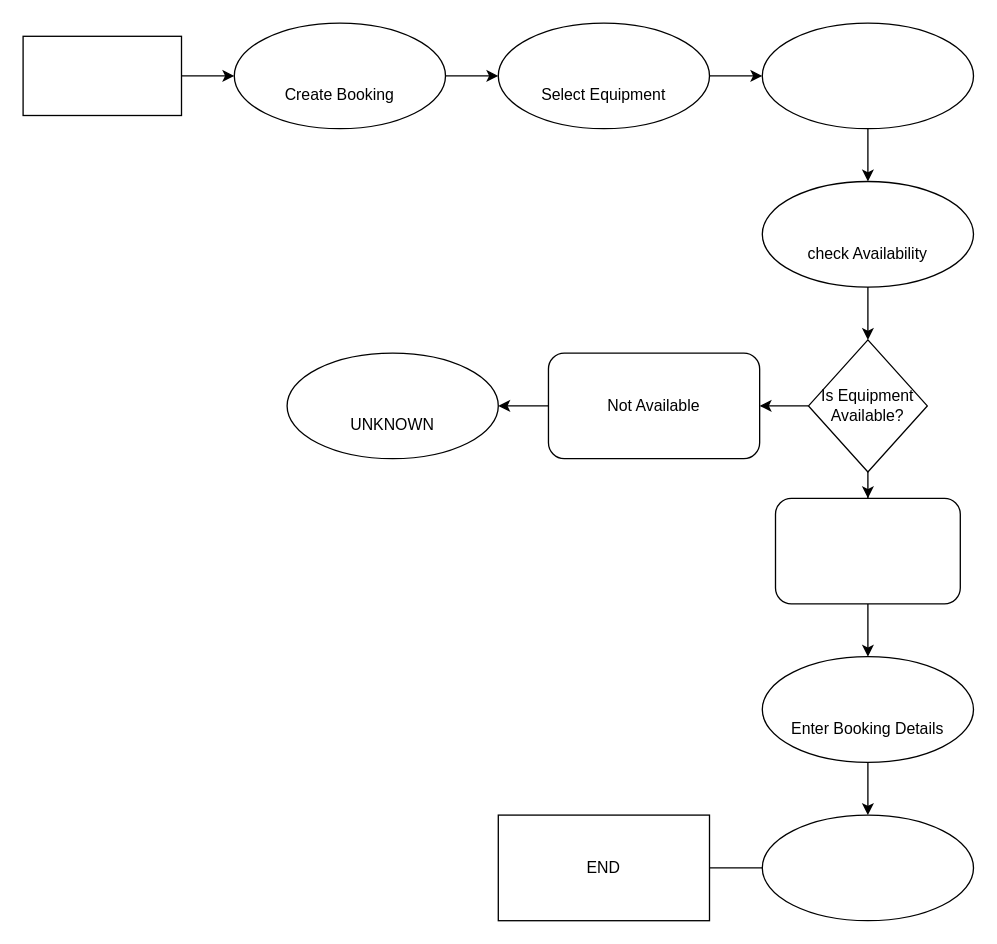
This 997x944 diagram has some shape labels left out. Each missing label, with the centre of its shape:
"Available" belongs at point 867,550.
"BEGIN" belongs at point 102,75.
"Select Date" belongs at point 867,75.
"Submit booking" belongs at point 867,867.
